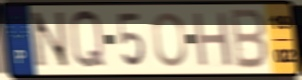5: (115, 11, 148, 69)
B: (230, 7, 270, 72)
H: (191, 9, 235, 69)
N: (29, 10, 73, 71)
O: (151, 10, 188, 69)
Q: (68, 8, 109, 72)
